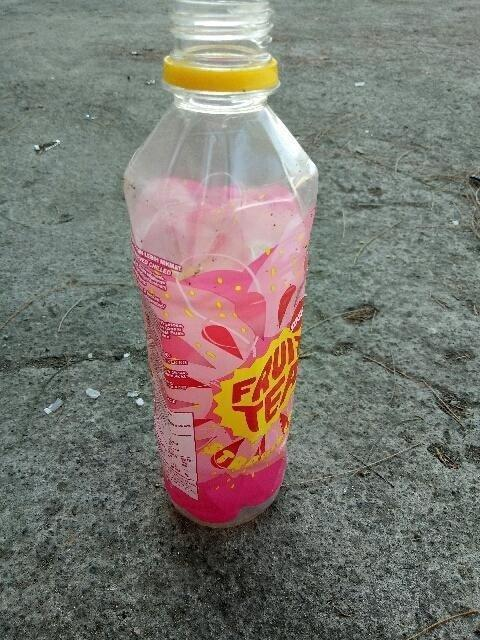bottle-plastic: (120, 0, 331, 537)
